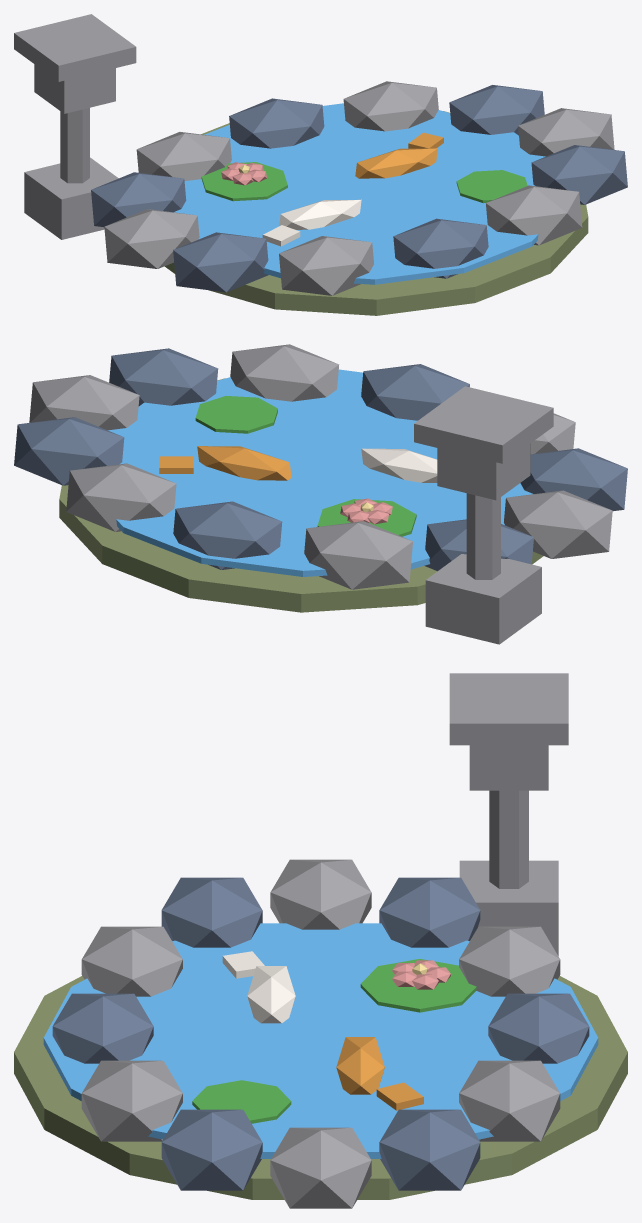
Rendered from CatCafe_Decor_LittleKoiPond.glb.
The picture shows the model from 3 angles, top to bottom: view 1: azimuth 30°, elevation 25°; view 2: azimuth 150°, elevation 25°; view 3: azimuth 270°, elevation 25°; orthographic projection. The views are drawn at different scales.
Visible parts, largest first — view 1: CatCafe_Decor_LittleKoiPond, CatCafe_Decor_LittleKoiPond_Water; view 2: CatCafe_Decor_LittleKoiPond, CatCafe_Decor_LittleKoiPond_Water; view 3: CatCafe_Decor_LittleKoiPond, CatCafe_Decor_LittleKoiPond_Water.
Boxes of the visible parts, x1=… form: CatCafe_Decor_LittleKoiPond: x1=14, y1=14, x2=627, y2=315; CatCafe_Decor_LittleKoiPond_Water: x1=174, y1=103, x2=545, y2=284; CatCafe_Decor_LittleKoiPond: x1=14, y1=344, x2=627, y2=644; CatCafe_Decor_LittleKoiPond_Water: x1=108, y1=369, x2=533, y2=576; CatCafe_Decor_LittleKoiPond: x1=14, y1=673, x2=627, y2=1208; CatCafe_Decor_LittleKoiPond_Water: x1=43, y1=923, x2=598, y2=1158.
Bounding box in the file's own units: 3.9 × 1.32 × 3.1.
Materials: 1 (1 with a texture image).
